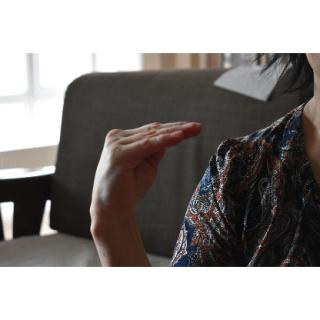HAA: (84, 120, 207, 236)
